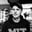Face: (11, 6, 24, 20)
